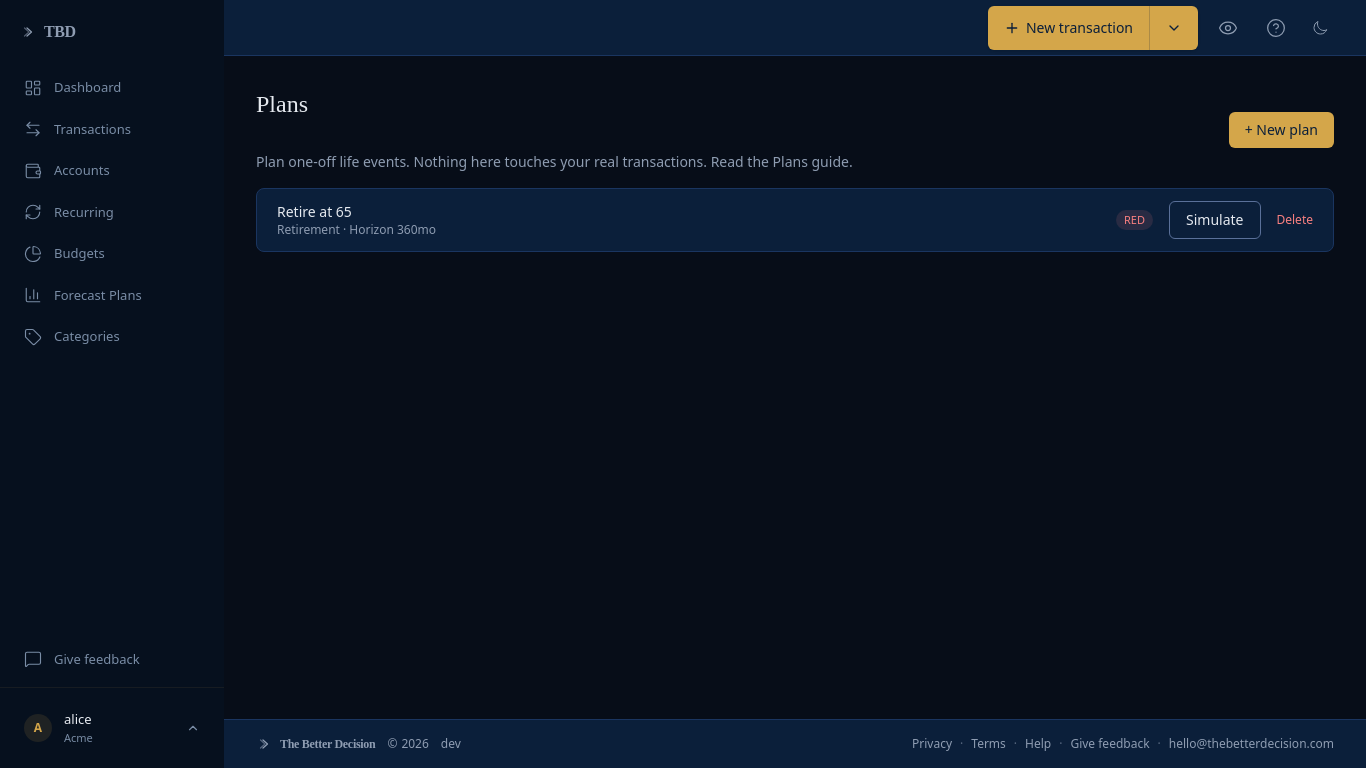
Test case: /plans page › retirement curve editor adds a row when 'Add step' is clicked
The width and height of the screenshot is (1366, 768).
Expected: the text "Retire at 65" is shown, x1=277 y1=202 x2=352 y2=221
Click the button "Retire at 65 Retirement · Horizon 360mo".
click(314, 212)  # box x1=277 y1=202 x2=1100 y2=238
(page scrolled)
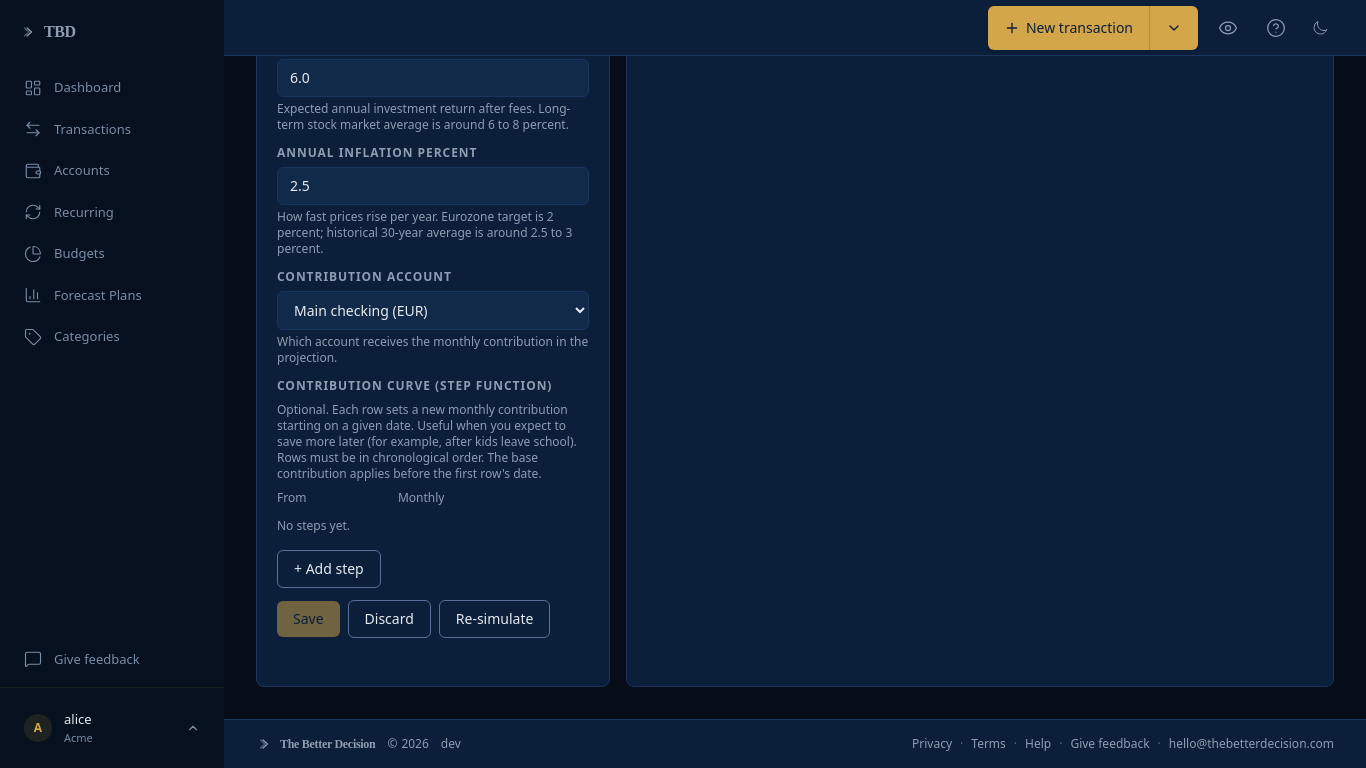
Click the button with test id "ret-curve-add".
click(329, 569)  # box x1=277 y1=550 x2=381 y2=588
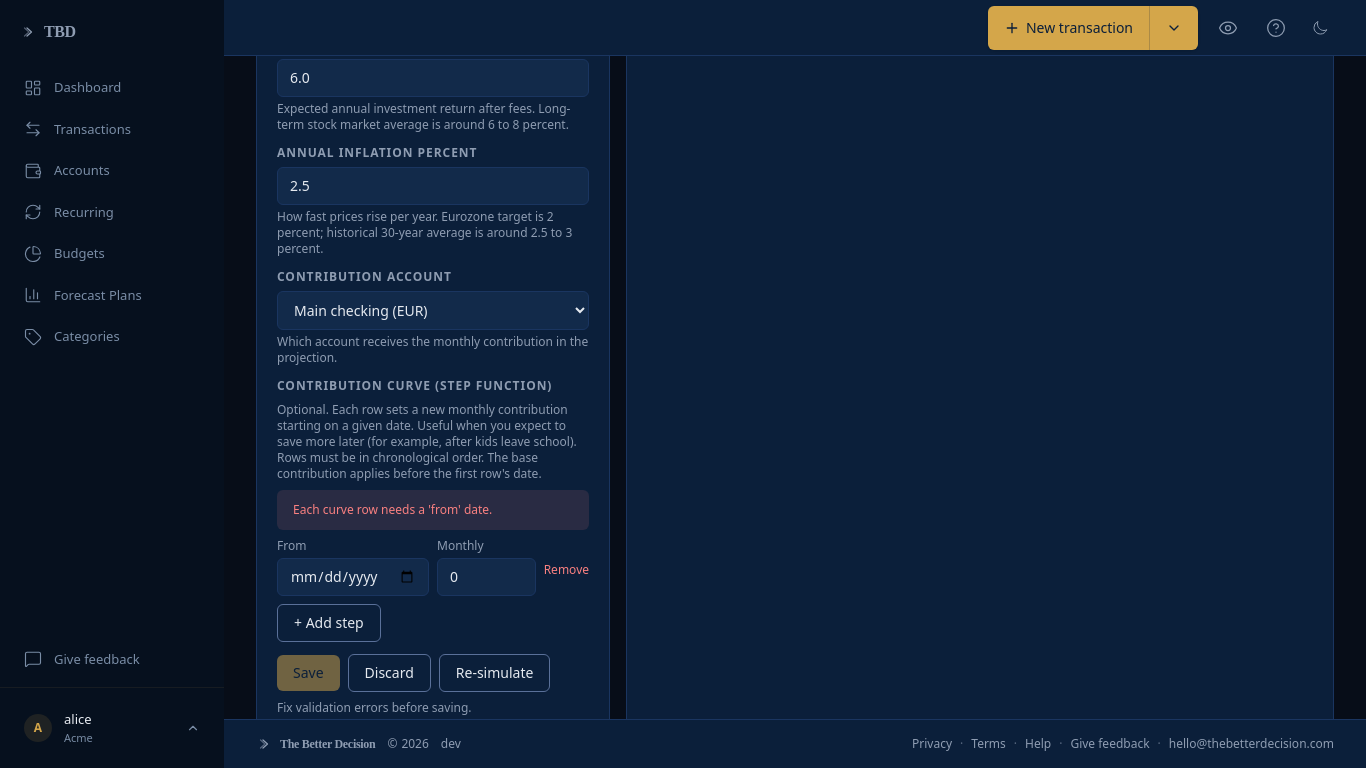
Now the row with test id "ret-curve-row-0" is shown, box x1=277 y1=558 x2=589 y2=596
Now the date field with test id "ret-curve-from-0" is shown, box x1=277 y1=558 x2=429 y2=596
